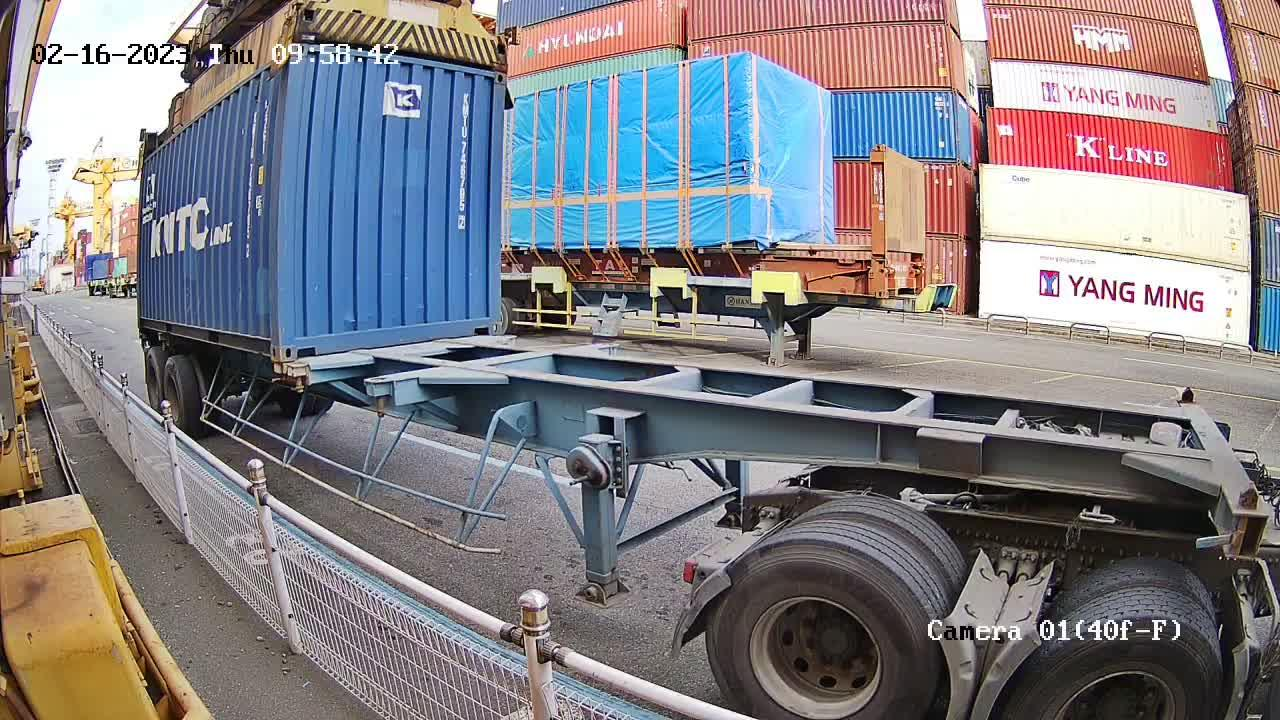Chassis: (297, 336, 514, 370)
Cone: (289, 364, 307, 399), (270, 362, 283, 386)
Hole_L: (283, 325, 320, 362)
Hole_R: (472, 305, 504, 336), (255, 325, 281, 361)
Tire: (706, 541, 940, 717), (1008, 622, 1225, 719), (162, 361, 186, 421), (143, 351, 162, 408)
